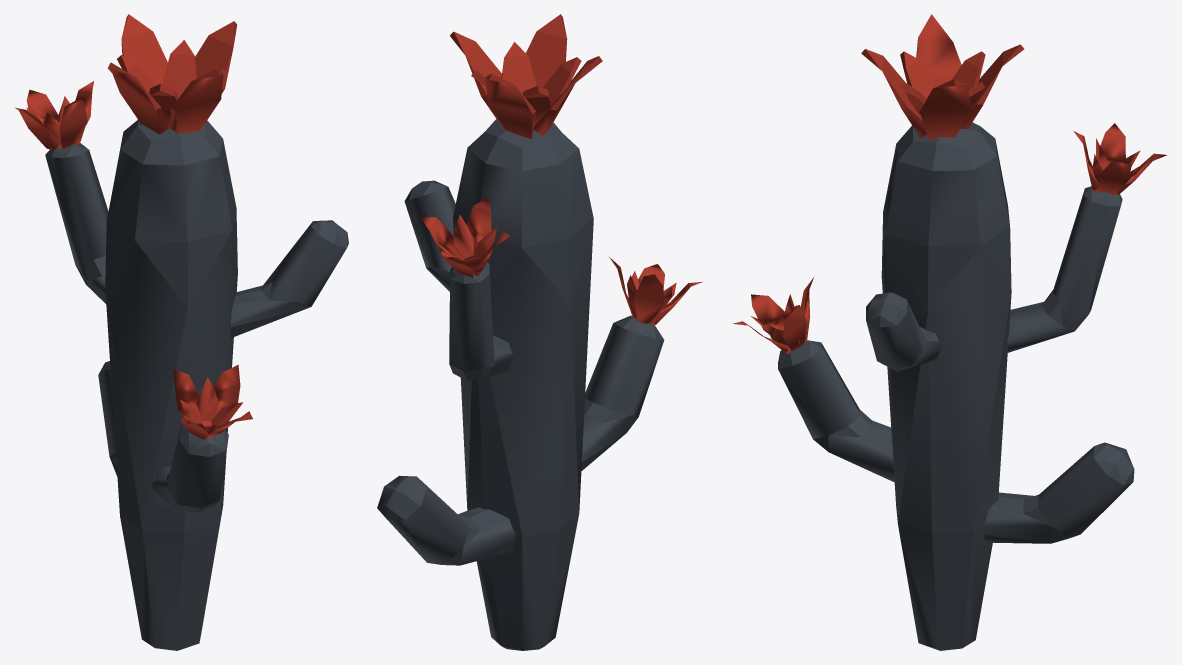
Rendered from cc0-cactus-flowers-lod1.glb.
The picture shows the model from 3 angles, left to right: view 1: azimuth 30°, elevation 25°; view 2: azimuth 150°, elevation 25°; view 3: azimuth 270°, elevation 25°; orthographic projection.
Visible parts, largest first — view 1: part_0; view 2: part_0; view 3: part_0.
Part boxes in pixels (x1,y1,x2,y2): part_0: (14,14,348,650); part_0: (377,14,703,650); part_0: (732,14,1166,650).
Bounding box in the file's own units: 0.7654 × 1.93 × 1.28.
